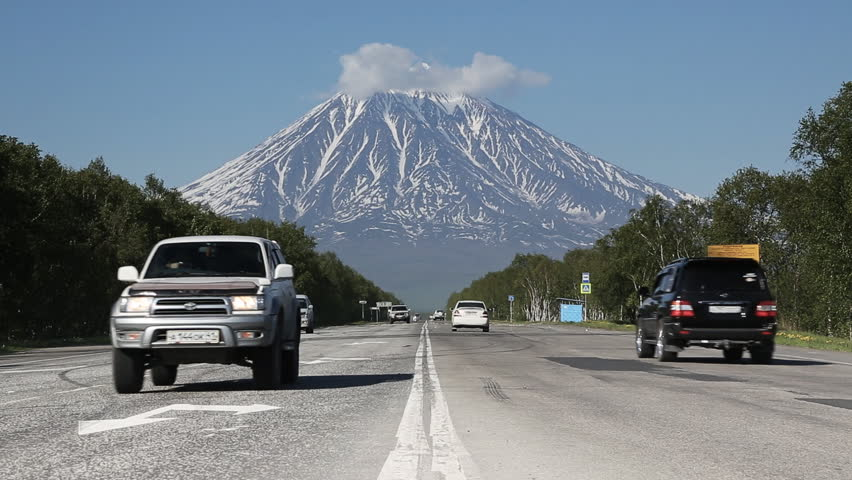car: (110, 232, 300, 393), (632, 257, 778, 361), (450, 299, 490, 333), (388, 304, 410, 326)
